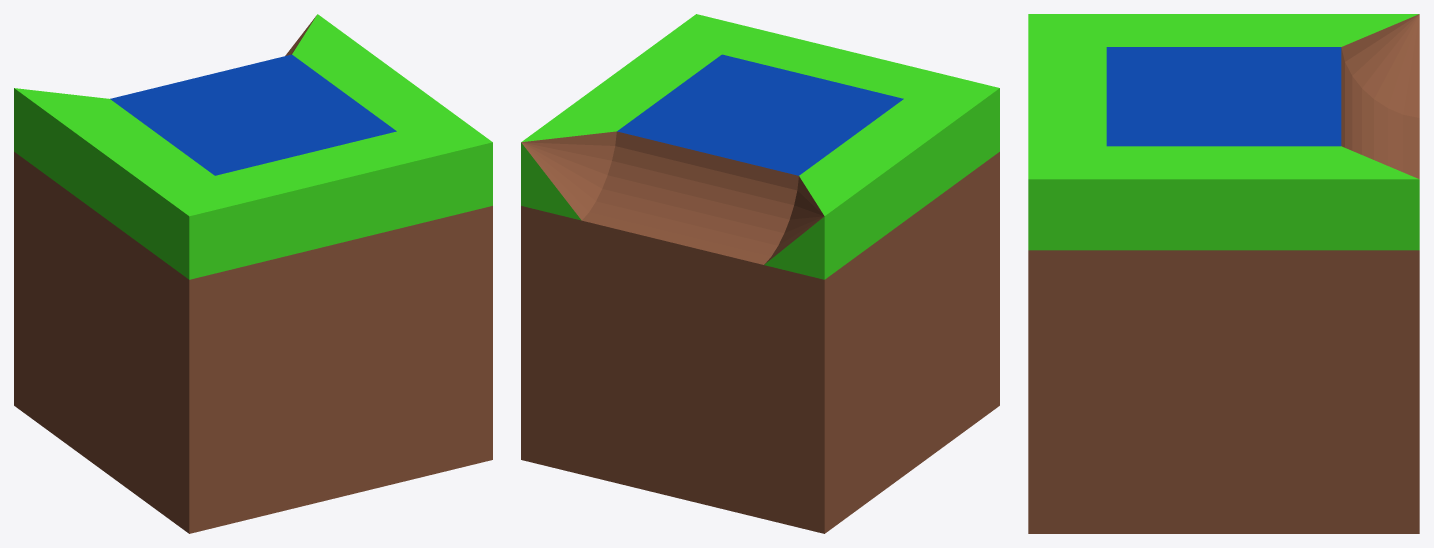
Rendered from RollingLogStraight.glb.
3 renders of one model, left to right at view 1: azimuth 30°, elevation 25°; view 2: azimuth 150°, elevation 25°; view 3: azimuth 270°, elevation 25°, orthographic. The views are drawn at different scales.
Visible parts, largest first — view 1: Cube.001; view 2: Cube.001; view 3: Cube.001.
Boxes of the visible parts, x1,y1,x2,y2 form: Cube.001: (14,14,492,533); Cube.001: (521,14,999,533); Cube.001: (1028,14,1419,533).
Size of the model in its own units: 4 by 4 by 4.
Materials: 1 (1 with a texture image).
